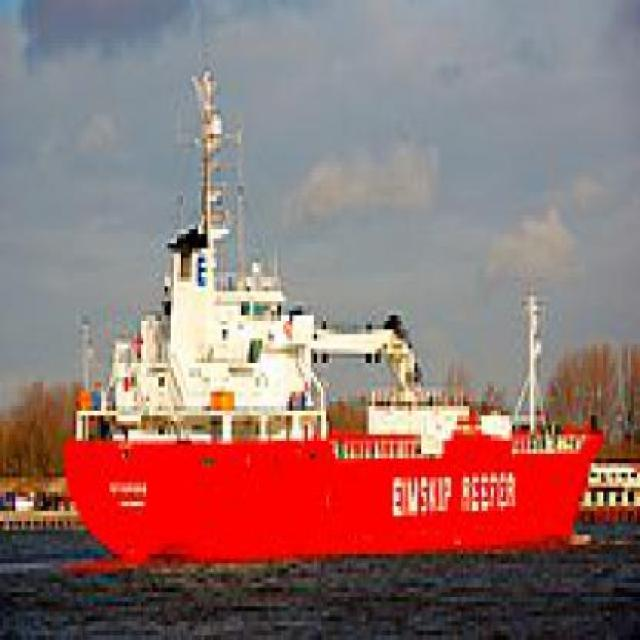container: (49, 53, 611, 584)
